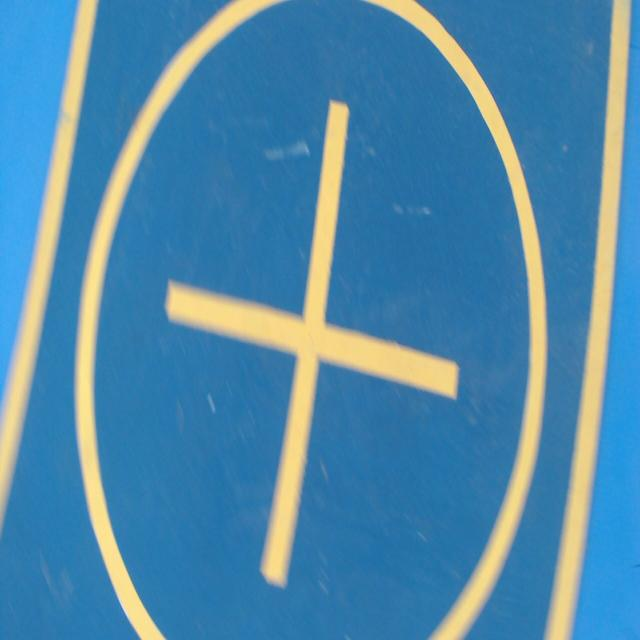base_pouso: (0, 1, 634, 639)
